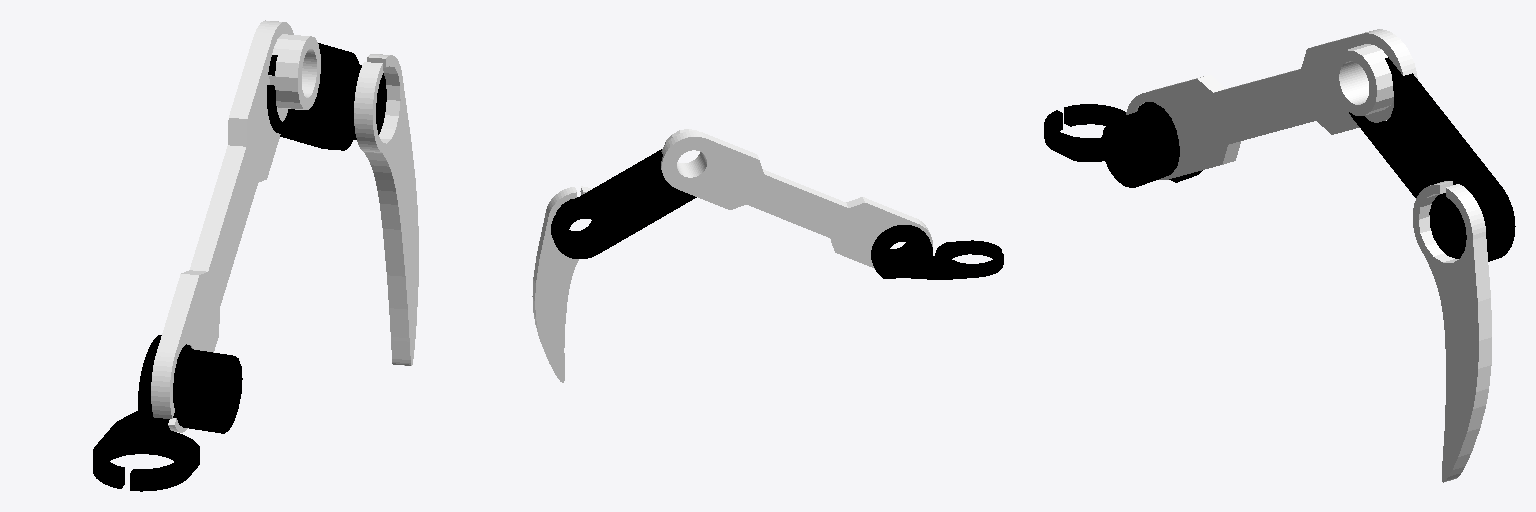
robot.urdf — spider:
<?xml version="1.0"?>
<robot name="spider">

  <material name="blue">
    <color rgba="0 0 0.8 1"/>
  </material>
  <material name="black">
    <color rgba="0 0 0 1"/>
  </material>
  <material name="white">
    <color rgba="1 1 1 1"/>
  </material>

  

  <link name="base_link">
    <visual>
      <origin rpy="0.0 0 0" xyz="0 0 1"/>
      <geometry>
        <mesh filename="package://udm_spider/mesh/torso.stl" scale="0.05 0.05 0.05"/>
      </geometry>
      <material name="white"/>
    </visual>
  </link>



  <link name="root_link_1">
    <visual>
      <origin rpy="0 0 0.7" xyz="0.30 0.2 0.0"/>
      <geometry>
        <mesh filename="package://udm_spider/mesh/rootlink.stl" scale="0.05 0.05 0.05"/>
      </geometry>
      <material name="black"/>
    </visual>
  </link>

  <joint name="root_link_1_joint" type="revolute">
    <axis xyz="0 0 1"/>
    <limit effort="1000.0" lower="-1" upper="0.5" velocity="0.5"/>
    <parent link="base_link"/>
    <child link="root_link_1"/>
    <origin xyz="0.7 1.0 0.85"/>
  </joint>

  <link name="long_link_1">
    <visual>
      <origin xyz="0.25 0.4 -0.25" rpy="0 0 1"/>
      <geometry>
        <mesh filename="package://udm_spider/mesh/long-link.stl" scale="0.05 0.05 0.05"/>
      </geometry>
      <material name="white"/>
    </visual>
  </link>

  <joint name="long_link_1_joint" type="revolute">
    <axis xyz="0 0 1"/>
    <limit effort="1000.0" lower="-1" upper="1" velocity="0.5"/>
    <parent link="root_link_1"/>
    <child link="long_link_1"/>
    <origin rpy="1.5 0.5 0.7" xyz="0.50 0.15 0.25"/>
  </joint>

  <link name="link_1">
    <visual>
      <origin   xyz="0.5 0 -0.02"/>
      <geometry>
        <mesh filename="package://udm_spider/mesh/link1.stl" scale="0.05 0.05 0.05"/>
      </geometry>
      <material name="black"/>
    </visual>
  </link>

  <joint name="link_1_joint" type="revolute">
    <axis xyz="0 0 1"/>
    <limit effort="1000.0" lower="-1" upper="1" velocity="0.5"/>
    <parent link="long_link_1"/>
    <child link="link_1"/>
     <origin rpy="0 0 0" xyz="1.1 1.6 -0.2"  />
  </joint>

  <link name="leaf_link_1">
    <visual>
      <origin rpy="0 0 -1" xyz="0.27 -0.42 0"/>
      <geometry>
        <mesh filename="package://udm_spider/mesh/leaf-link.stl" scale="0.05 0.05 0.05"/>
      </geometry>
      <material name="white"/>
    </visual>
  </link>

  <joint name="leaf_link_1_joint" type="revolute">
    <axis xyz="0 0 1"/>
    <limit effort="1000.0" lower="-1" upper="1" velocity="0.5"/>
    <parent link="link_1"/>
    <child link="leaf_link_1"/>
    <origin xyz="1 0 0.2"/>
  </joint>


</robot>

--- Facts derived from the render (not from the file) ---
The picture shows the robot from 3 angles, left to right: view 1: azimuth 30°, elevation 25°; view 2: azimuth 150°, elevation 25°; view 3: azimuth 270°, elevation 25°; orthographic projection.
Robot: spider — 5 links, 4 joints (4 revolute); root link base_link; default pose: every joint at zero.
Visible links, largest first — view 1: long_link_1, root_link_1, leaf_link_1, link_1; view 2: long_link_1, link_1, root_link_1, leaf_link_1; view 3: long_link_1, leaf_link_1, link_1, root_link_1.
Boxes of the visible links, x1=… form: long_link_1: x1=151, y1=20, x2=320, y2=432; root_link_1: x1=93, y1=335, x2=242, y2=491; leaf_link_1: x1=354, y1=54, x2=418, y2=365; link_1: x1=267, y1=43, x2=386, y2=150; long_link_1: x1=661, y1=129, x2=932, y2=268; link_1: x1=551, y1=149, x2=696, y2=258; root_link_1: x1=871, y1=225, x2=1003, y2=279; leaf_link_1: x1=532, y1=186, x2=591, y2=382; long_link_1: x1=1126, y1=29, x2=1417, y2=179; leaf_link_1: x1=1413, y1=181, x2=1491, y2=482; link_1: x1=1349, y1=57, x2=1515, y2=261; root_link_1: x1=1044, y1=102, x2=1202, y2=187.
Size in the robot's own frame: 3.11 by 2.62 by 2.29 metres.
Meshes: 5 distinct files referenced, 4 mesh visuals loaded (4 ASCII STL); not drawn: 1 (reference not matched to a file when rendering).